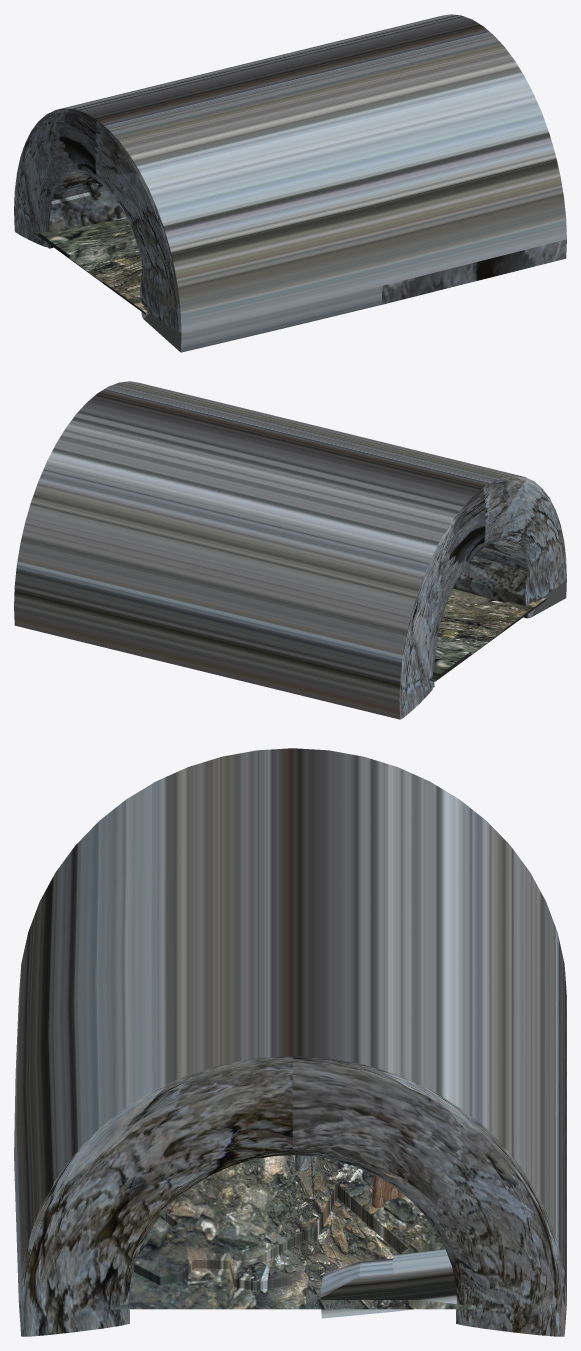
File: cueva2.fbx
3 views of the same model, one above another, from view 1: azimuth 30°, elevation 25°; view 2: azimuth 150°, elevation 25°; view 3: azimuth 270°, elevation 25° (orthographic). The views are drawn at different scales.
Parts seen in each view (by area): view 1: Torus, Plano; view 2: Torus, Plano; view 3: Torus, Plano.
Boxes of the visible parts, x1=… form: Torus: x1=14, y1=14, x2=566, y2=352; Plano: x1=34, y1=217, x2=151, y2=315; Torus: x1=14, y1=381, x2=566, y2=719; Plano: x1=429, y1=588, x2=546, y2=681; Torus: x1=14, y1=748, x2=566, y2=1336; Plano: x1=110, y1=1155, x2=475, y2=1309.
Size of the model in its own units: 4132 by 1696 by 3027.
43 materials, 43 textured.
